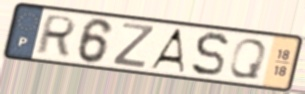6: (76, 16, 113, 65)
A: (146, 27, 187, 75)
Q: (226, 37, 270, 81)
R: (33, 13, 79, 58)
S: (189, 31, 231, 79)
Z: (109, 21, 157, 70)
